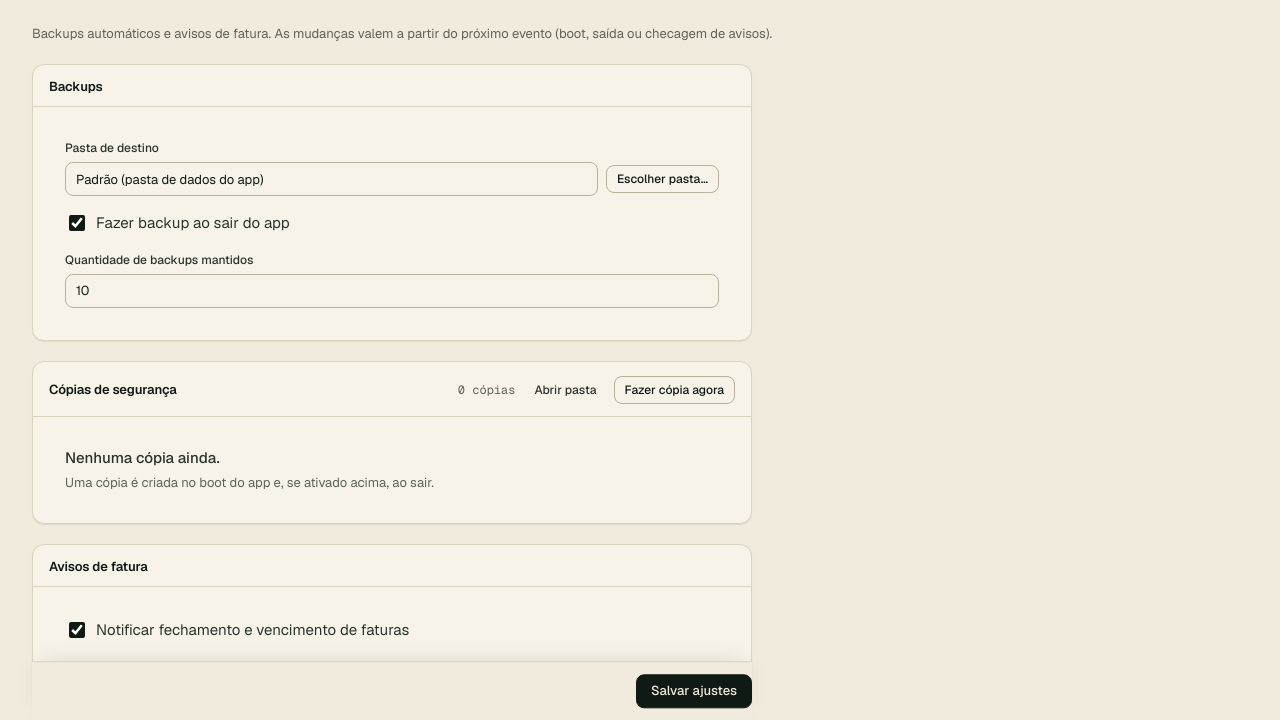
it: AjustesPage › salva a configuracao editada e mostra toast de sucesso
Replace the text in the number field labelled "Quantidade de backups mantidos" with "30" at (392, 291), box 65,274 -> 719,308
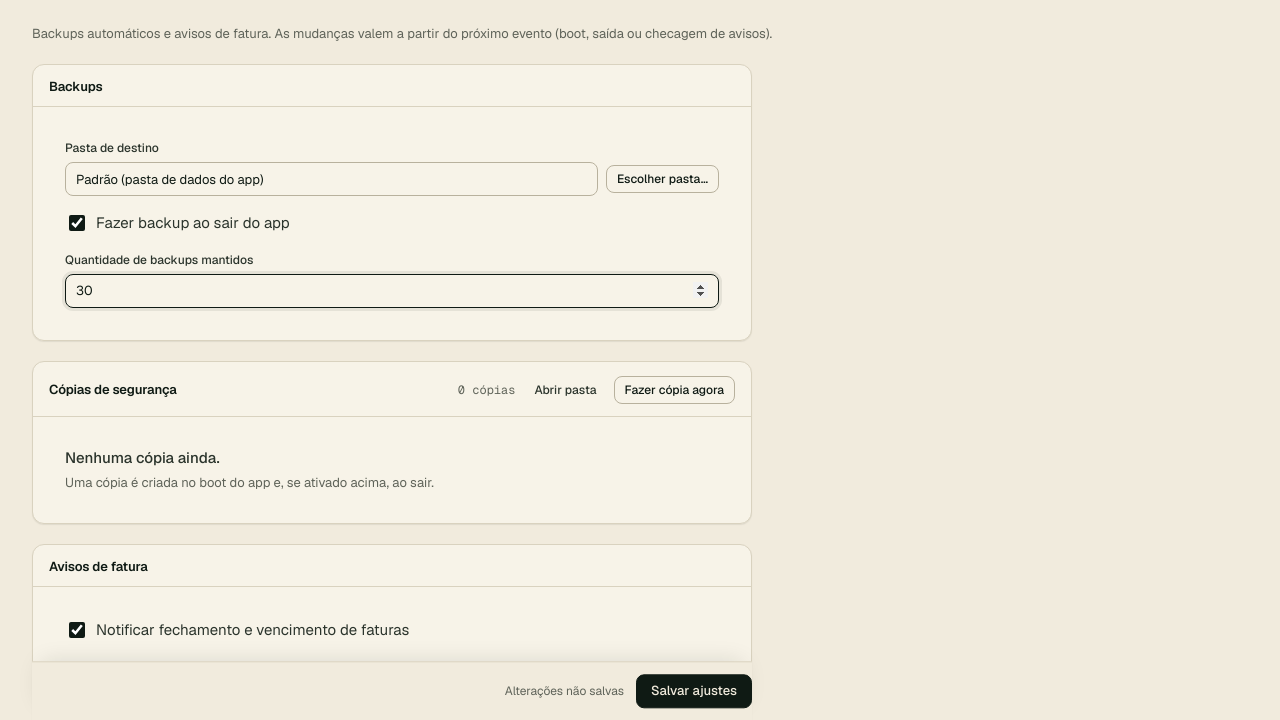
Click the checkbox labelled "Fazer backup ao sair do app" at (77, 223), box 69,215 -> 85,231
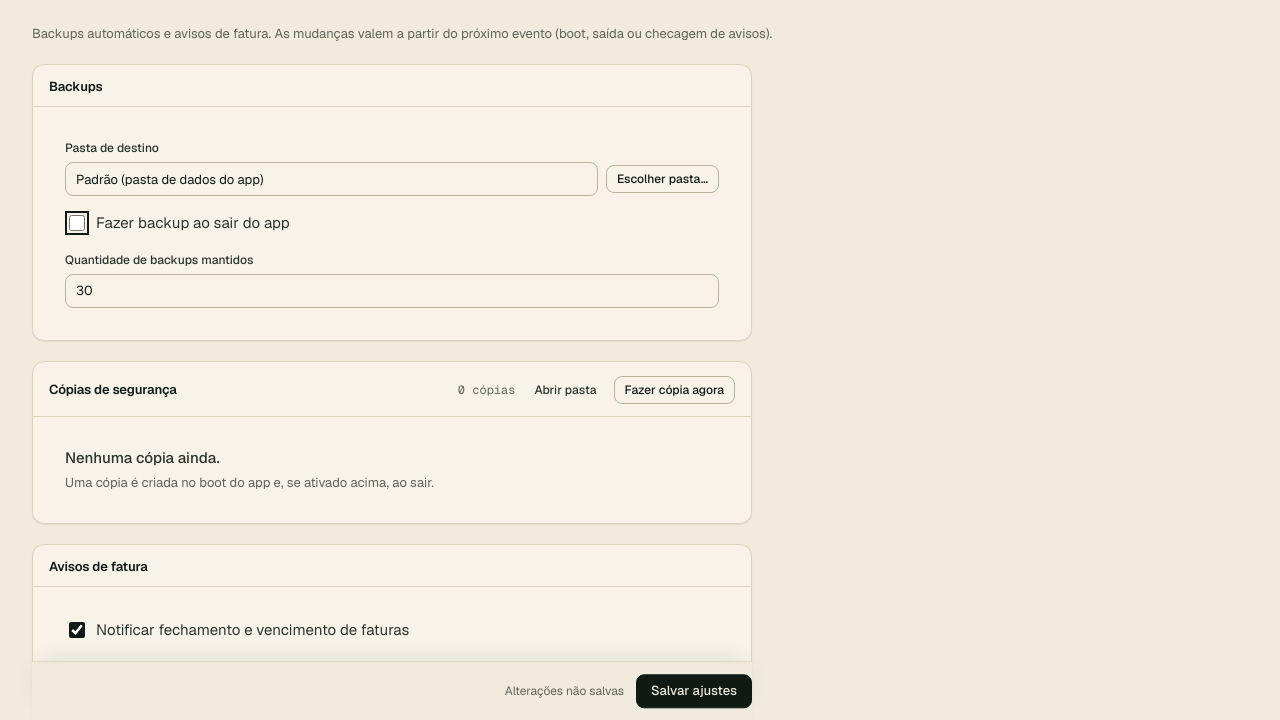
Click the button "Salvar ajustes" at (694, 691), box 636,674 -> 752,708
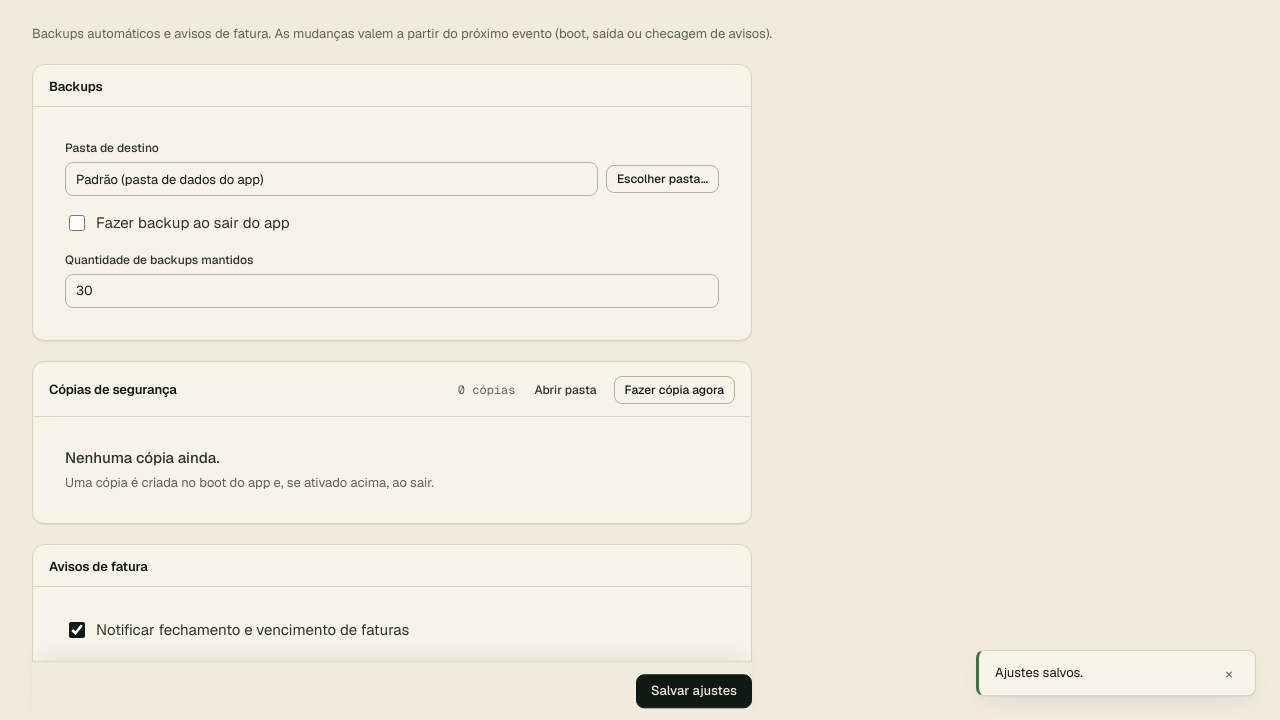
Result: the text "Ajustes salvos." is shown at 995,664 -> 1083,681
